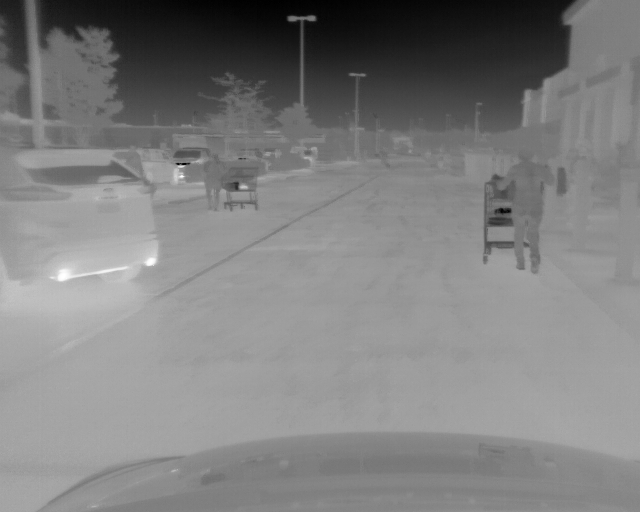car: (1, 147, 161, 293), (170, 146, 214, 183), (139, 148, 179, 187)
people: (496, 147, 557, 273), (562, 140, 593, 232), (201, 153, 225, 209)
